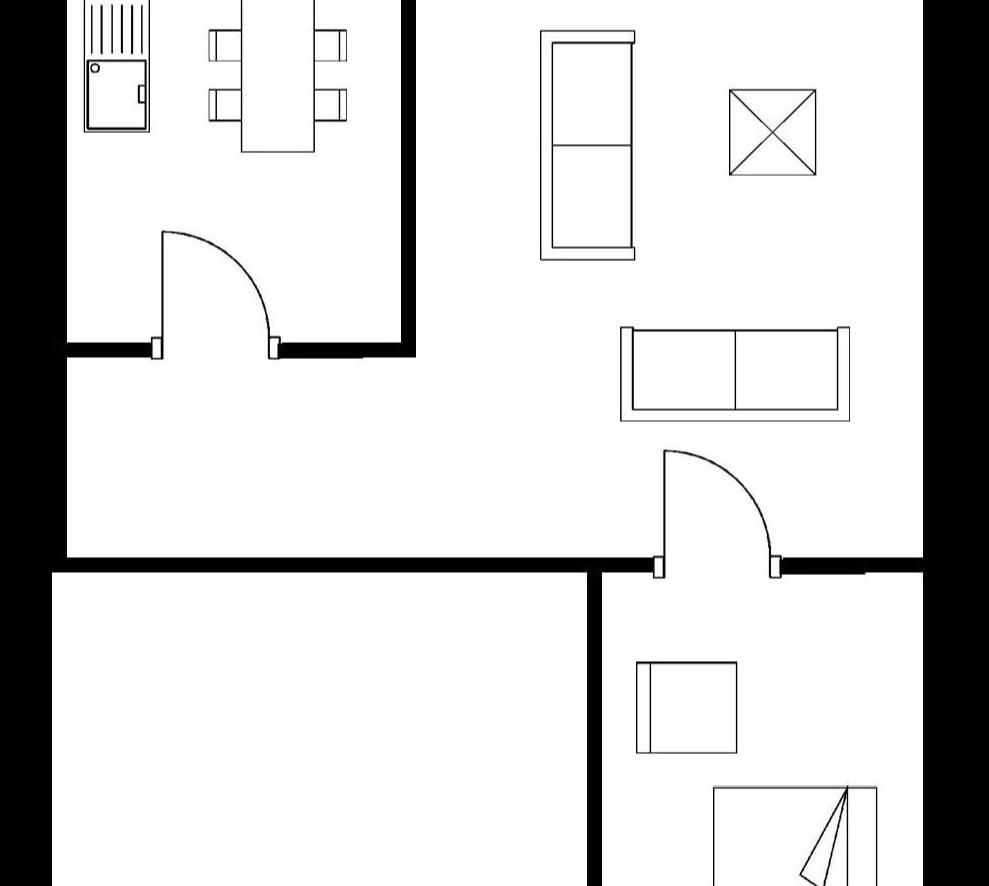bed: (708, 781, 883, 886)
dining_table: (202, 0, 352, 156)
sink: (76, 0, 155, 139)
sofa: (534, 25, 641, 268), (614, 320, 856, 426)
